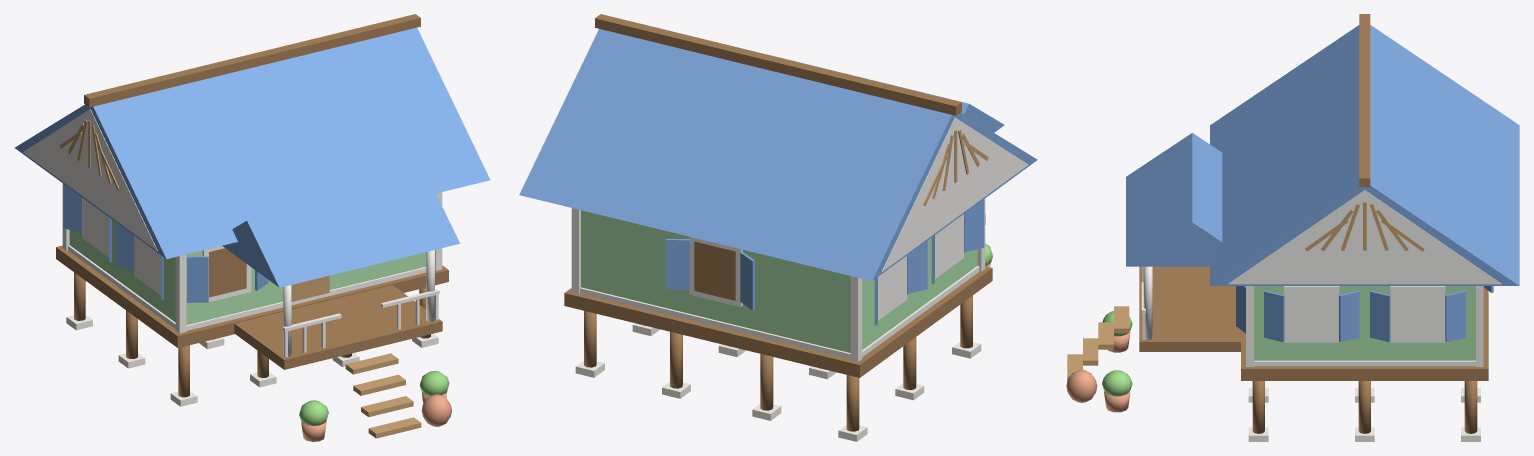
The model's file is Bld_KampungHouse2.fbx.
3 views of the same model, side by side, from view 1: azimuth 30°, elevation 25°; view 2: azimuth 150°, elevation 25°; view 3: azimuth 270°, elevation 25° (orthographic). The views are drawn at different scales.
Parts seen in each view (by area): view 1: Bld_KampungHouse2; view 2: Bld_KampungHouse2; view 3: Bld_KampungHouse2.
Boxes of the visible parts, x1,y1,x2,y2 form: Bld_KampungHouse2: (14,14,490,441); Bld_KampungHouse2: (519,14,1037,441); Bld_KampungHouse2: (1066,14,1519,441).
Bounding box in the file's own units: 8.8 × 7.06 × 10.25.
